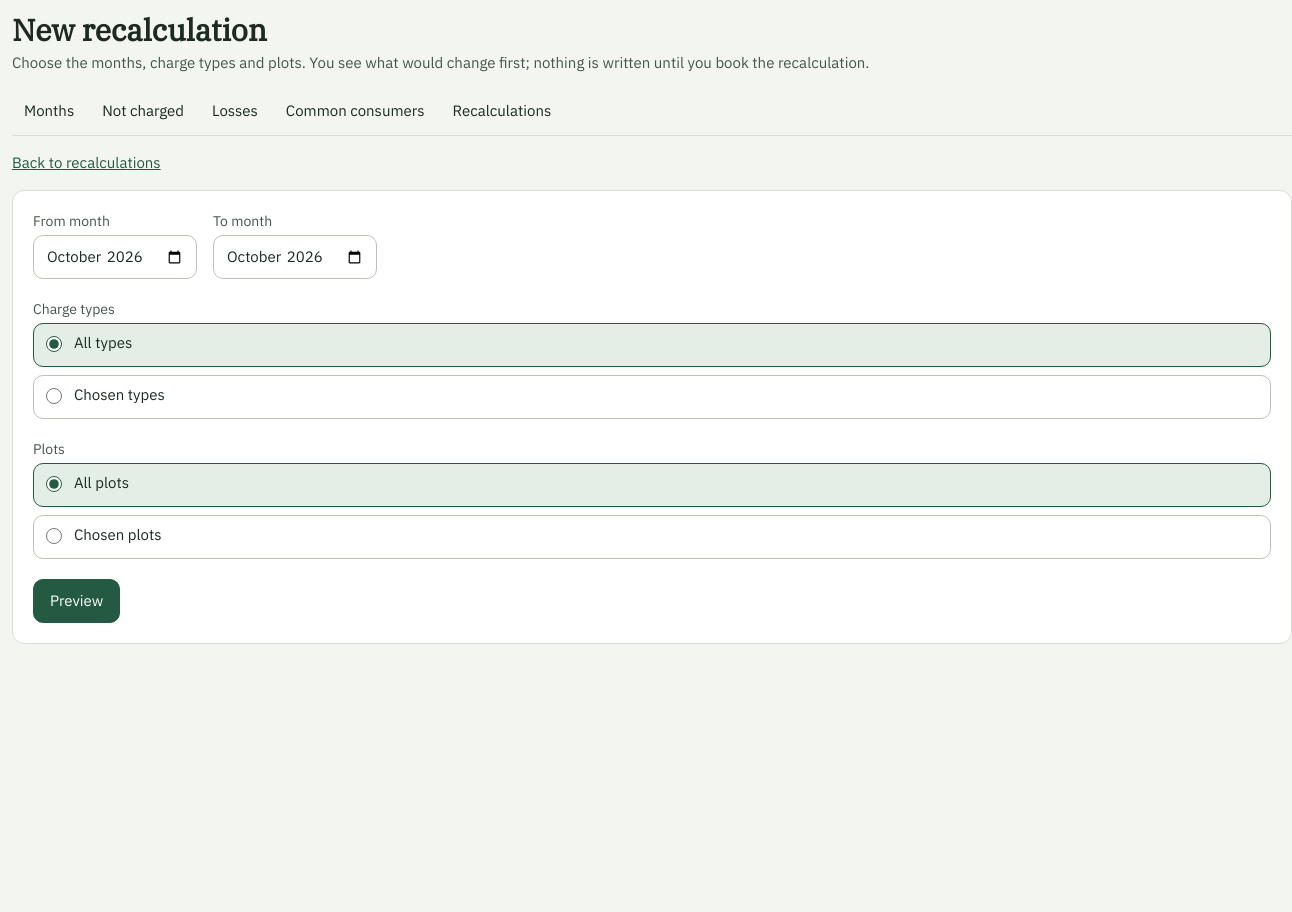
Test: RecalculationNewPage › requires plots when "chosen plots" is selected
This screenshot has width=1292, height=912.
Step 1. Click the radio button labelled "Chosen plots" → (54, 536), box x1=46 y1=528 x2=62 y2=544
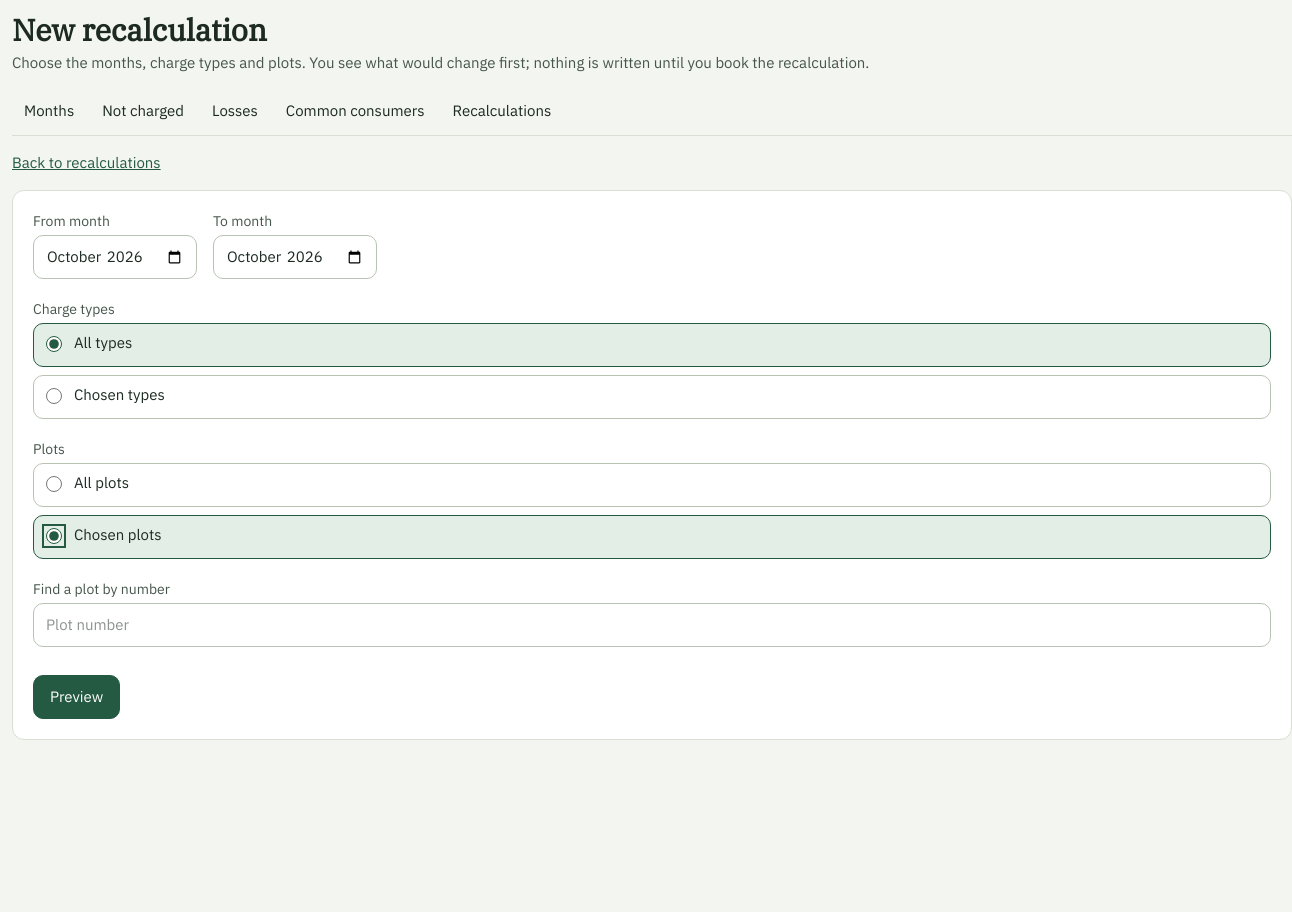
Step 2. Click the button "Preview" → (77, 697), box x1=33 y1=675 x2=120 y2=719
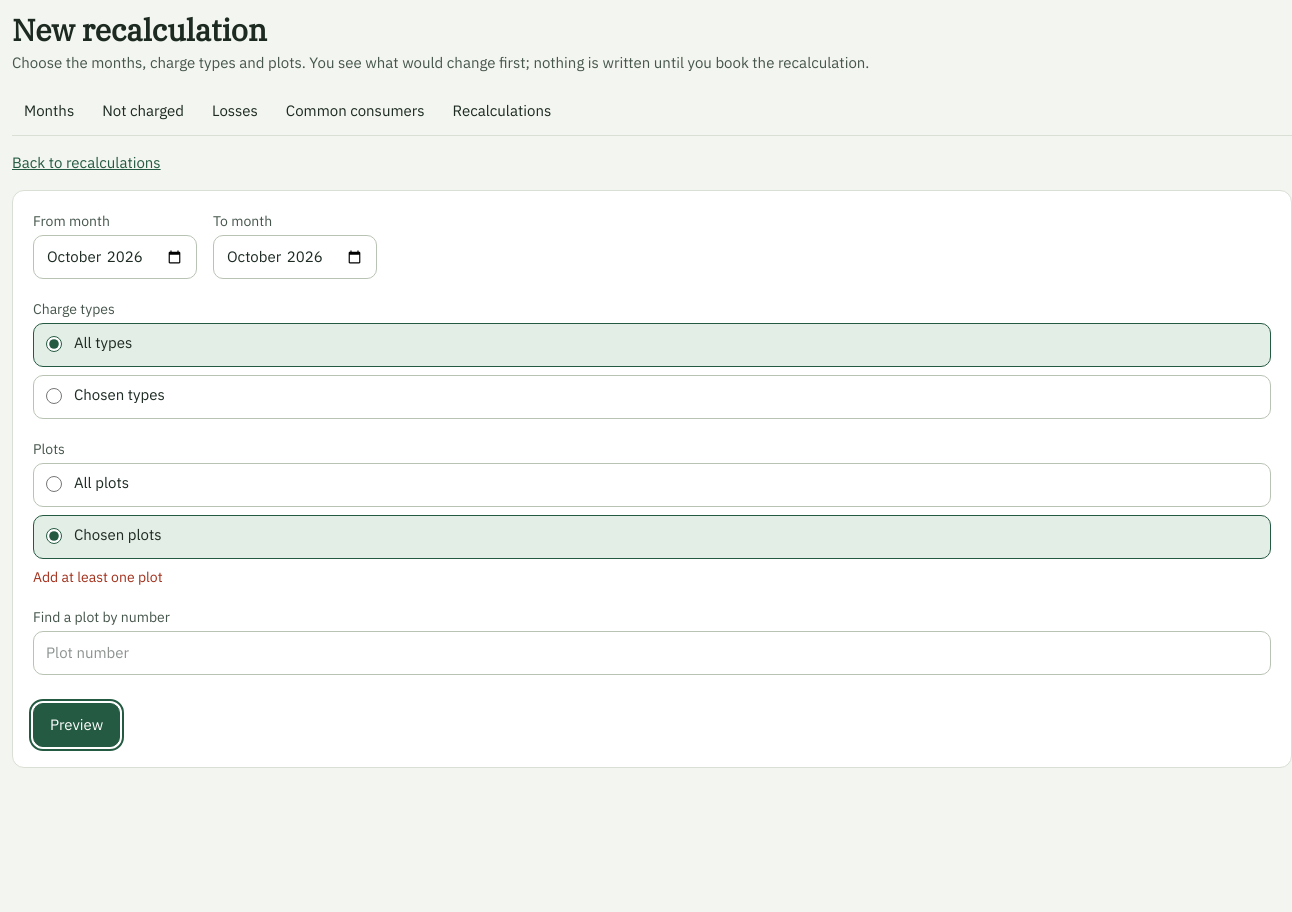
Expected: the text "Add at least one plot" is shown, x1=33 y1=568 x2=163 y2=586
